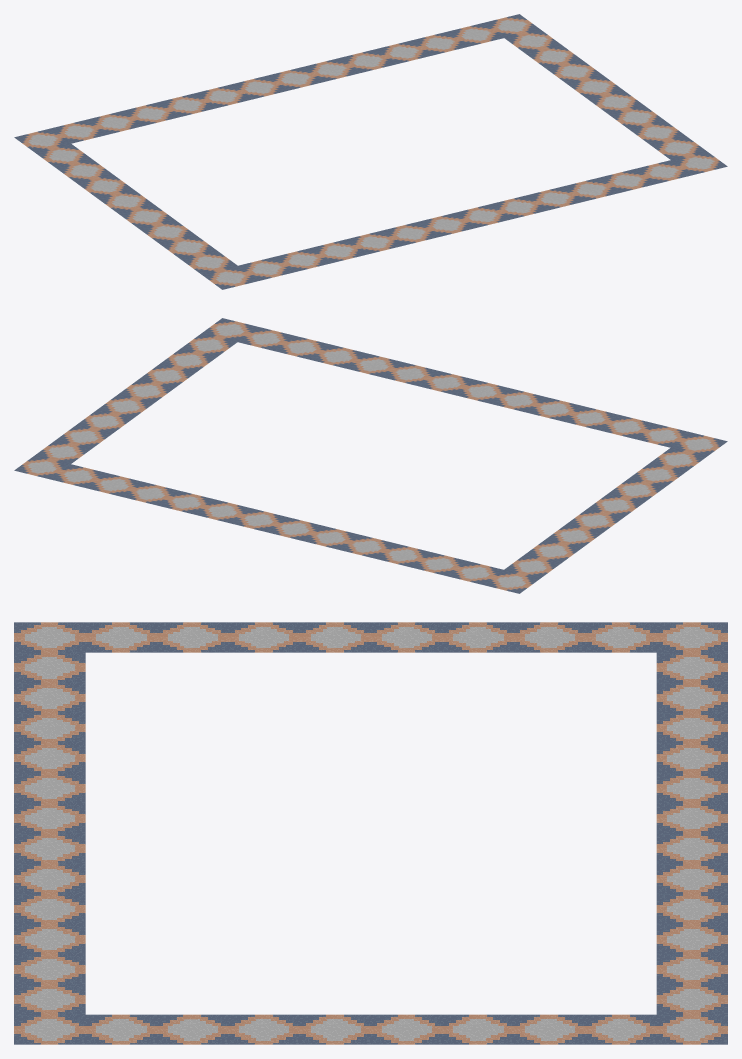
File: kd_stage_135d18_4_45_bounded.glb
3 views of the same model, one above another, from view 1: azimuth 30°, elevation 25°; view 2: azimuth 150°, elevation 25°; view 3: azimuth 270°, elevation 25° (orthographic). The views are drawn at different scales.
Parts seen in each view (by area): view 1: kd_stage_135d18_4_45_bounded; view 2: kd_stage_135d18_4_45_bounded; view 3: kd_stage_135d18_4_45_bounded.
Part boxes in pixels (bbox=[...]): kd_stage_135d18_4_45_bounded: bbox=[14, 14, 727, 289]; kd_stage_135d18_4_45_bounded: bbox=[14, 318, 727, 593]; kd_stage_135d18_4_45_bounded: bbox=[14, 622, 727, 1044].
Size of the model in its own units: 3.51 by 0.000135 by 2.51.
1 material, 1 textured.
